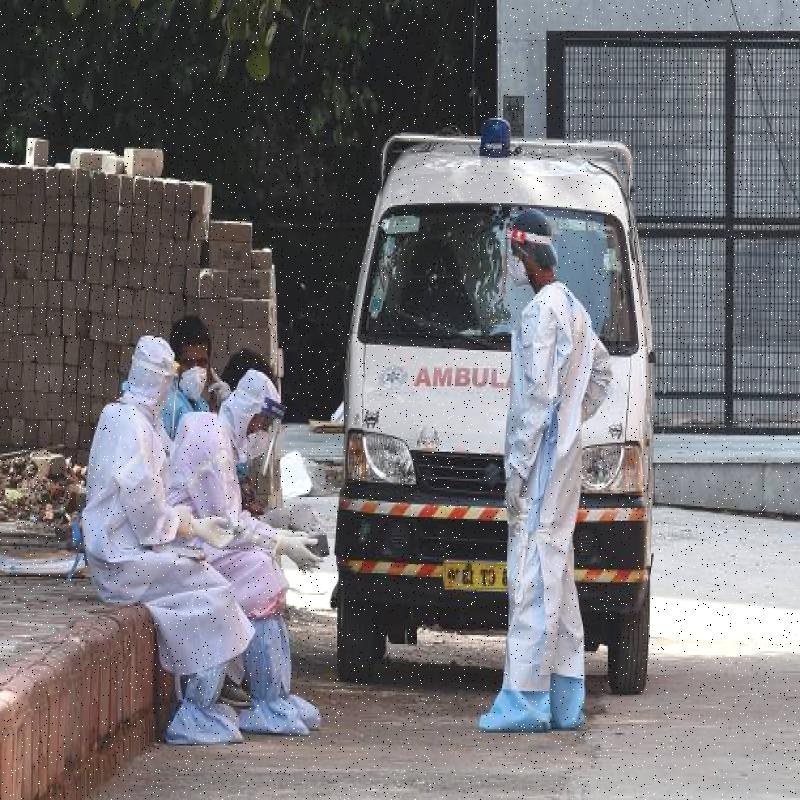ambulance: (327, 119, 676, 657)
